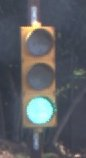Green: (14, 22, 59, 135)
